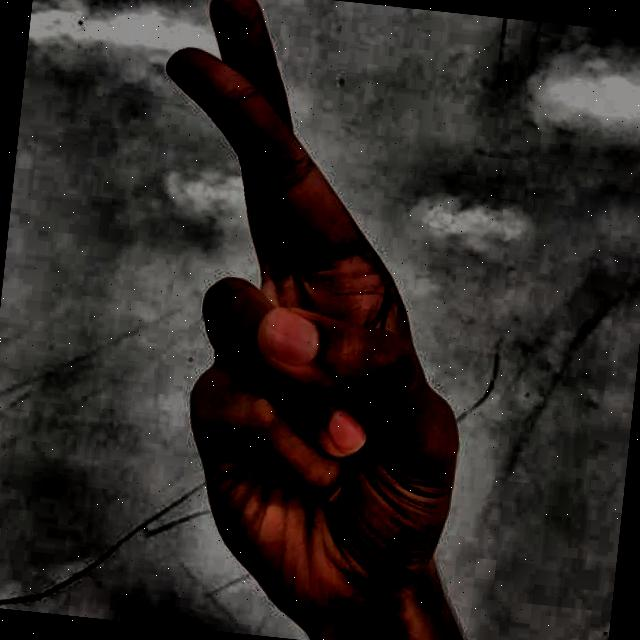Ra: (58, 0, 558, 640)
